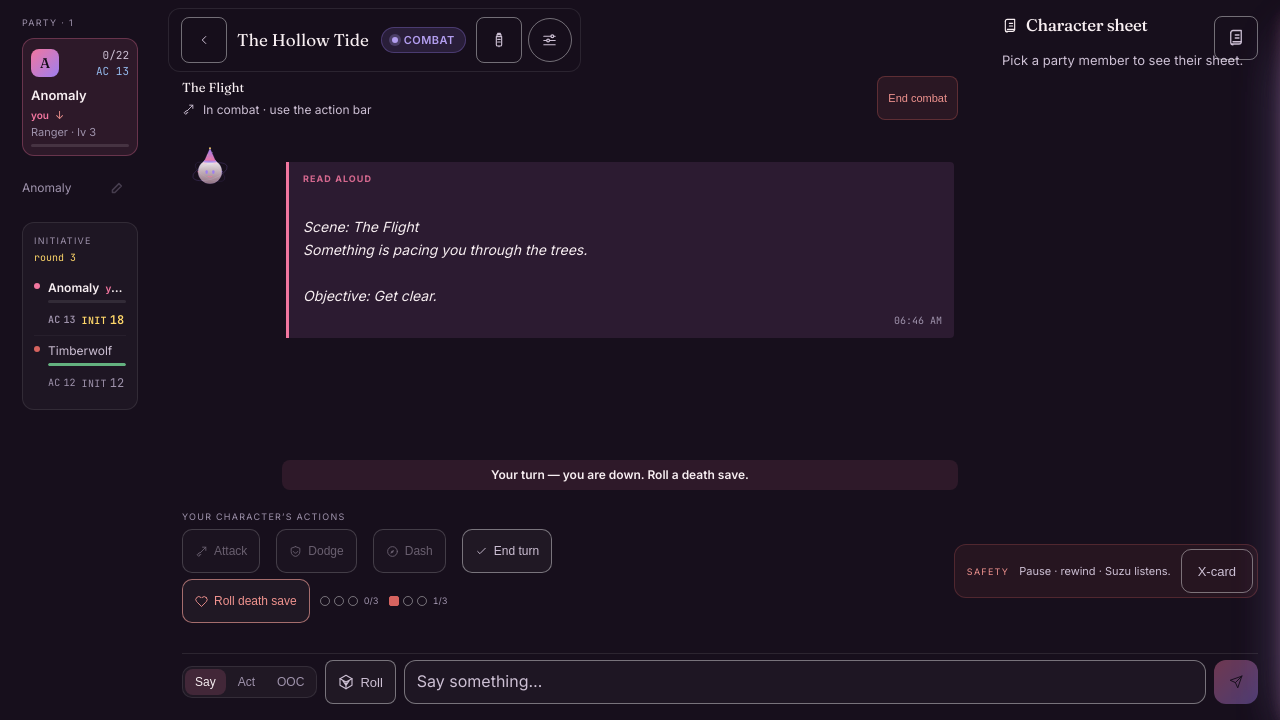
Test case: WF-O-OUTCOMELINE (T2) — outcome_line renders on a scene_advance; only arrival_line gates the generic beat › death-save: an over-400-char outcome_line falls through to a destination arrival_line when one IS authored
The width and height of the screenshot is (1280, 720).
Expected: the text "The Hollow Tide" is shown, x1=237 y1=27 x2=369 y2=53
Click the button "Roll death save". click: (246, 601)
box: x1=182 y1=579 x2=310 y2=623
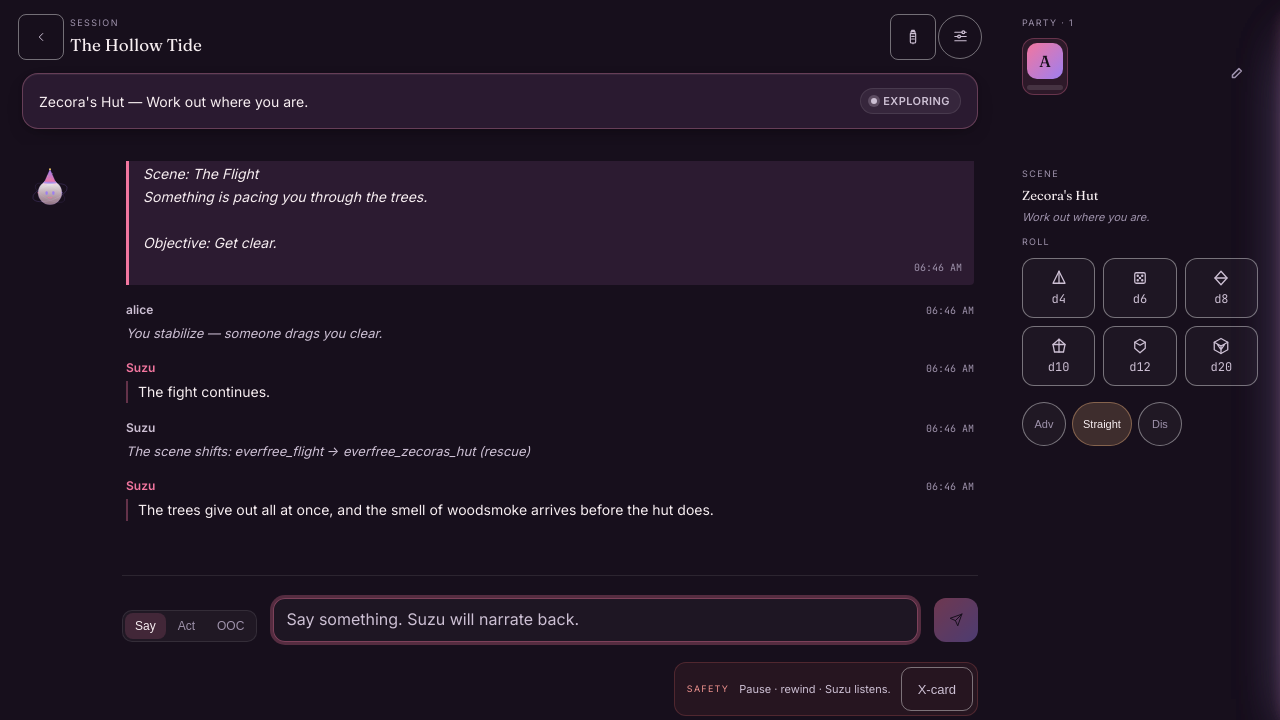
Expected: the text "The trees give out all at once, and the smell of woodsmoke arrives before the hut does." is shown, x1=138 y1=501 x2=714 y2=518
